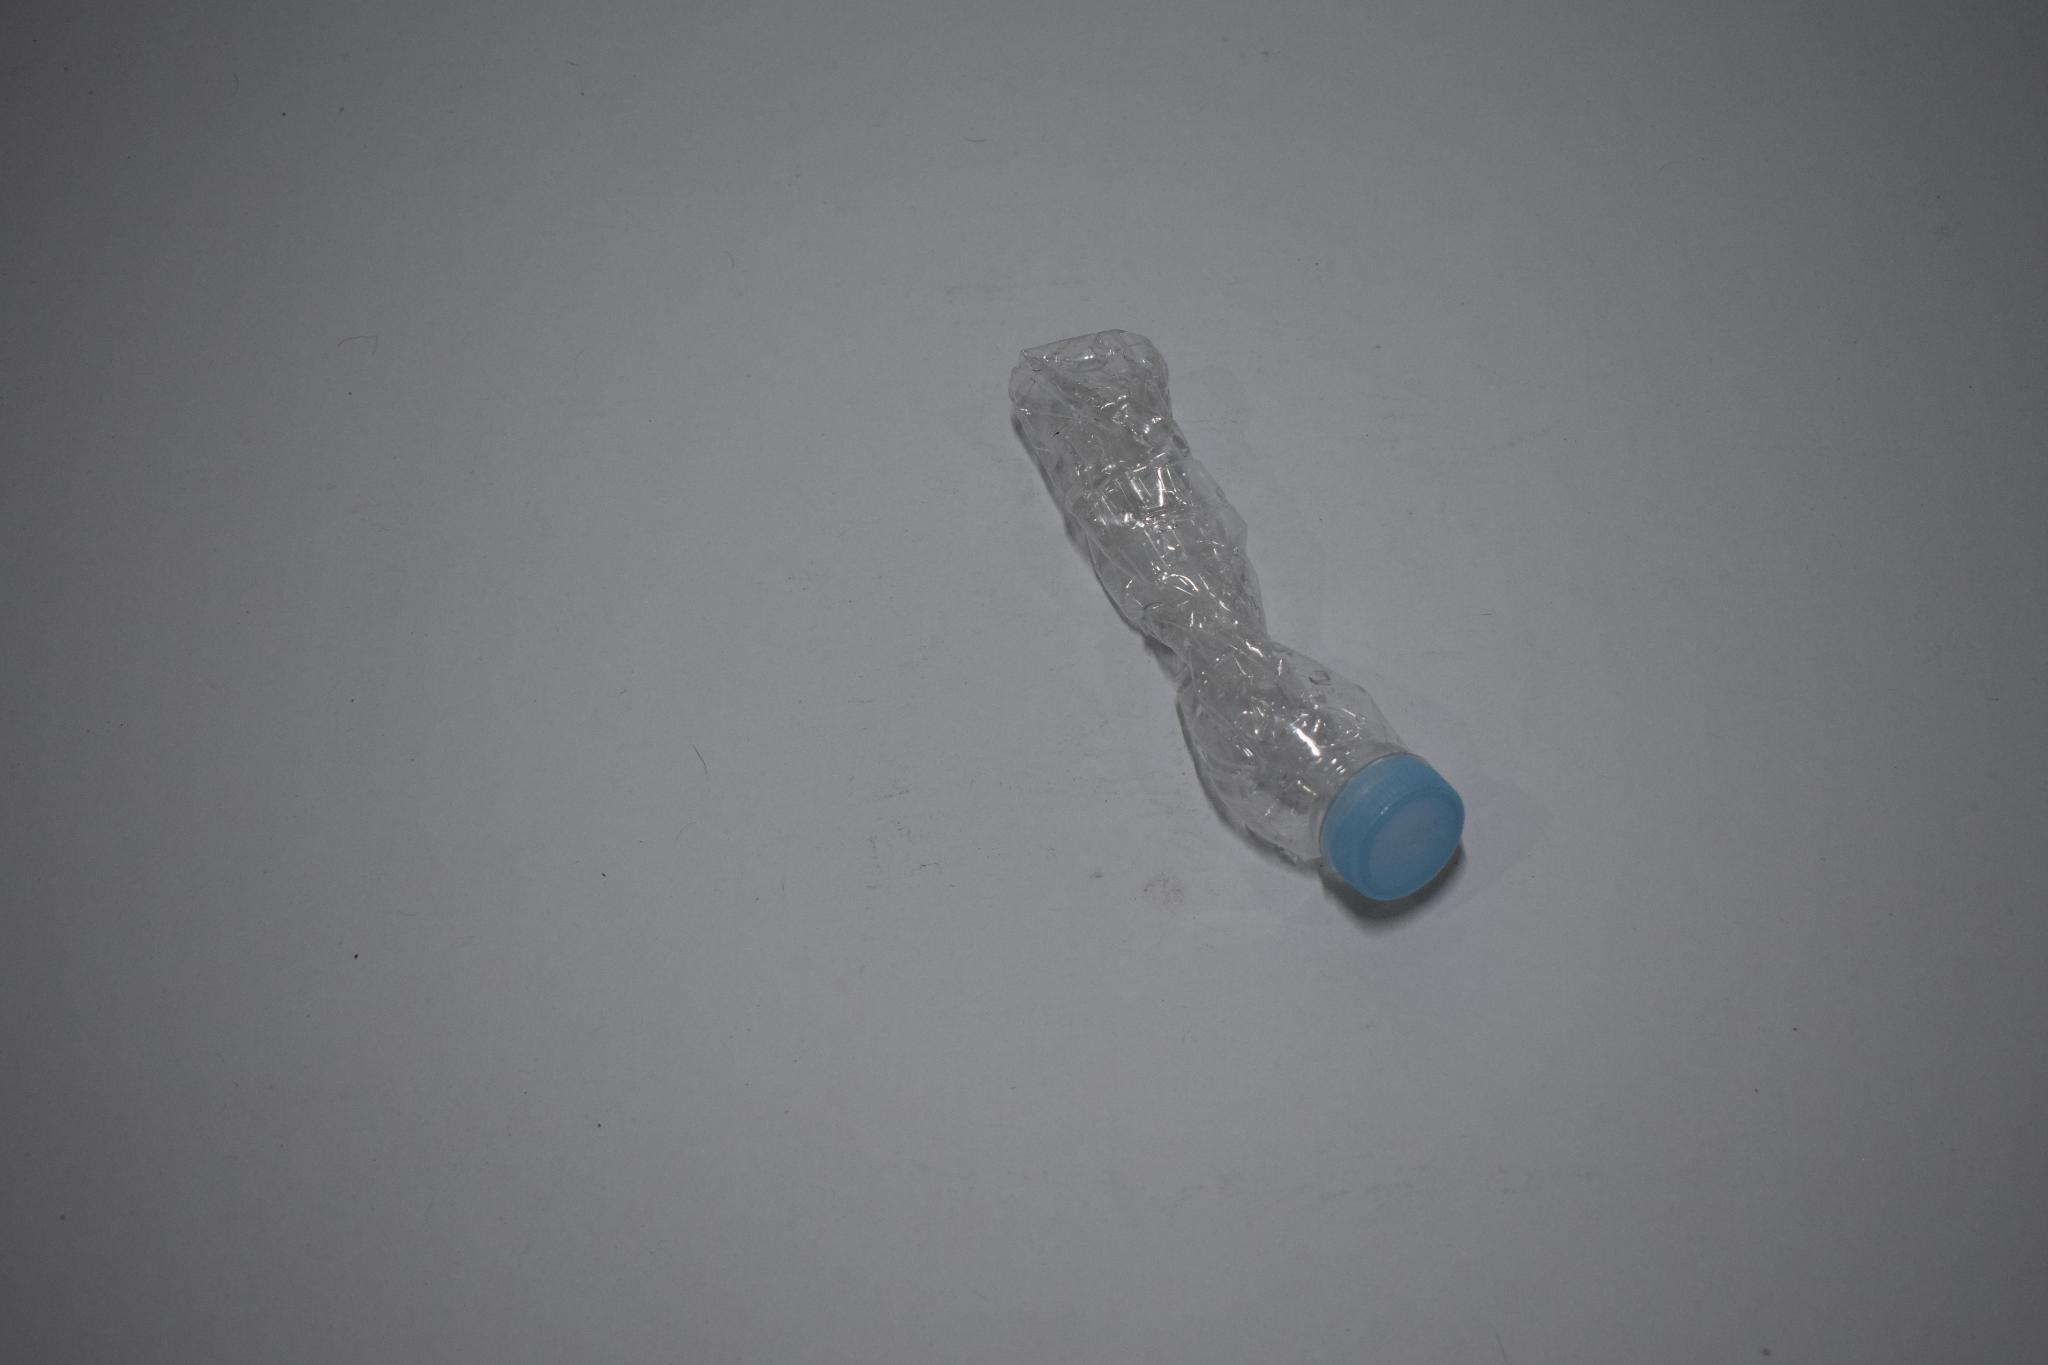bottle: (996, 331, 1468, 926)
